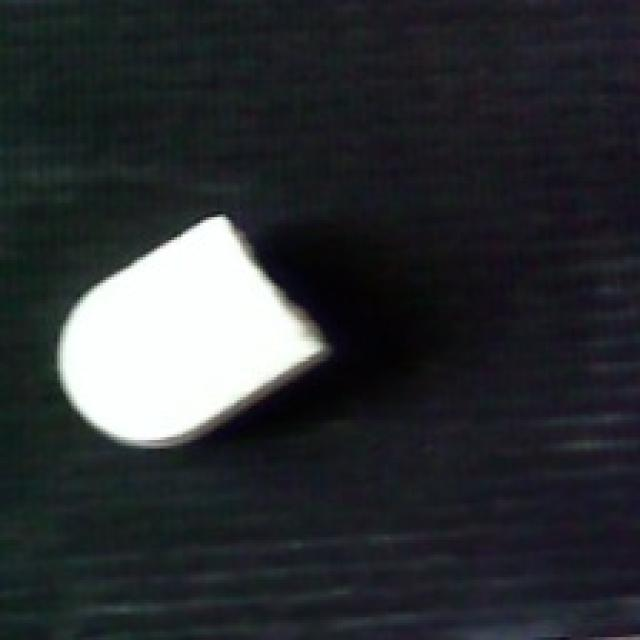defected: (49, 212, 337, 452)
